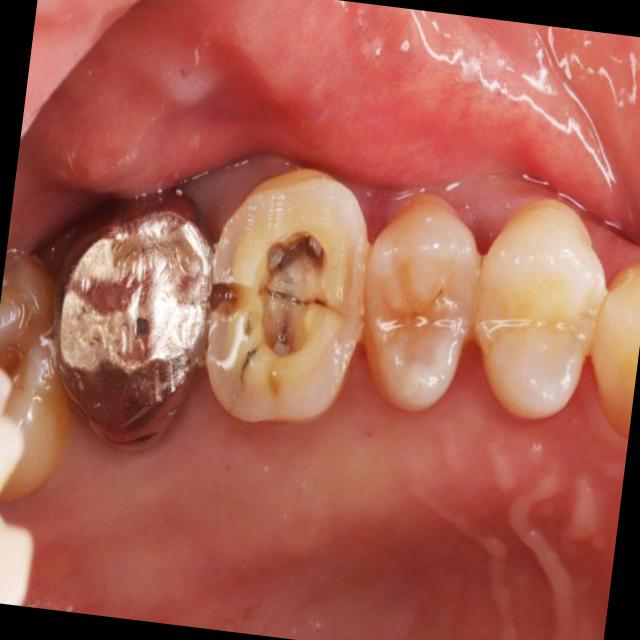Caries: (276, 235, 325, 274), (209, 283, 237, 310), (240, 348, 255, 379), (277, 325, 294, 352), (312, 297, 327, 305), (303, 301, 310, 306), (295, 300, 301, 305)
Cavity: (206, 225, 344, 381)
Tooth: (203, 171, 367, 423), (475, 202, 606, 417), (360, 193, 478, 408)
